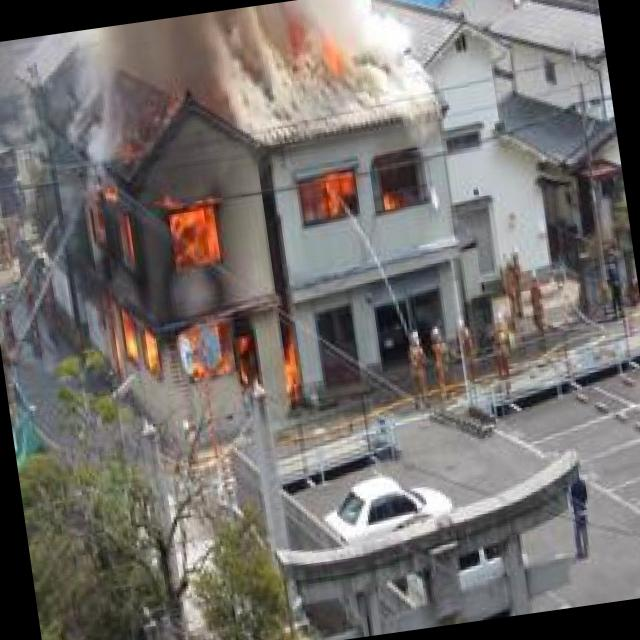Fire: (54, 145, 318, 458), (292, 156, 415, 232)
Smoke: (92, 0, 443, 158)
